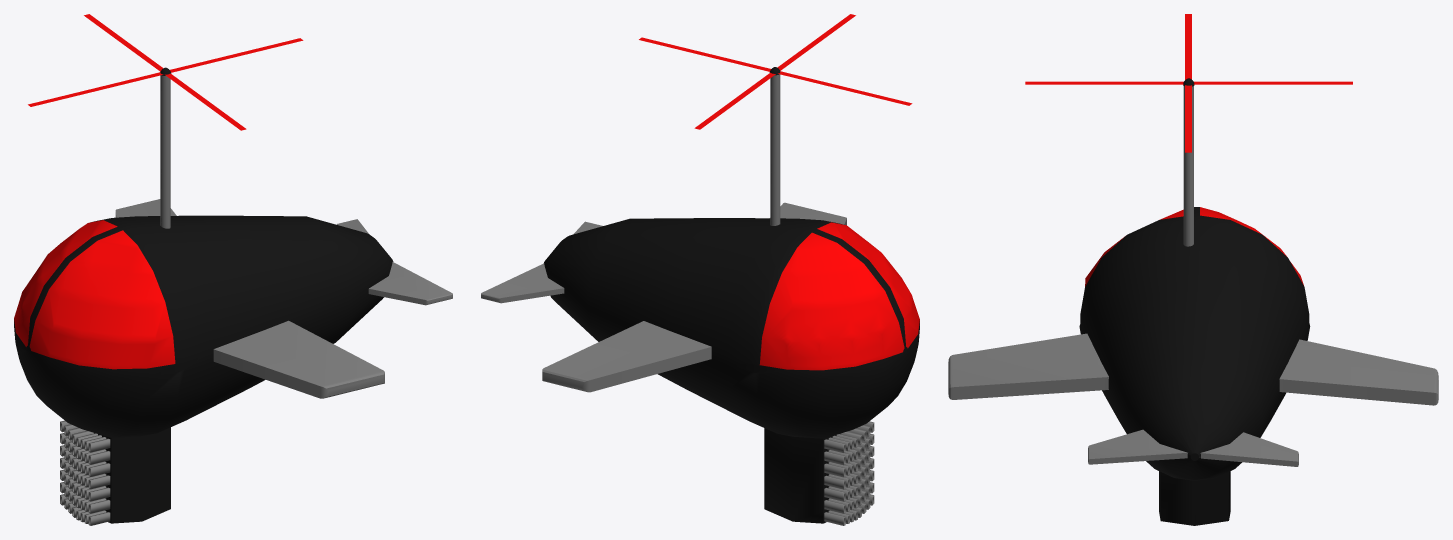
The model's file is Helcoper_Robot.FBX.
The picture shows the model from 3 angles, left to right: view 1: azimuth 30°, elevation 25°; view 2: azimuth 150°, elevation 25°; view 3: azimuth 270°, elevation 25°; orthographic projection. The views are drawn at different scales.
Visible parts, largest first — view 1: Sphere001, Box001, Cylinder001, Plane004, Plane003; view 2: Sphere001, Box001, Cylinder001, Plane004, Plane003; view 3: Sphere001, Box001, Cylinder001, Plane001, Plane002.
Boxes of the visible parts, x1,y1,x2,y2 form: Sphere001: (14, 215, 393, 525); Box001: (115, 199, 452, 398); Cylinder001: (160, 75, 170, 228); Plane004: (28, 72, 163, 106); Plane003: (170, 38, 303, 72); Sphere001: (544, 218, 919, 525); Box001: (481, 202, 846, 392); Cylinder001: (770, 74, 780, 225); Plane004: (778, 71, 912, 105); Plane003: (639, 37, 770, 71); Sphere001: (1079, 207, 1310, 525); Box001: (948, 333, 1438, 466); Cylinder001: (1183, 86, 1193, 246); Plane001: (1025, 81, 1183, 84); Plane002: (1194, 81, 1352, 84).
Size of the model in its own units: 86.17 by 94.94 by 92.39.
